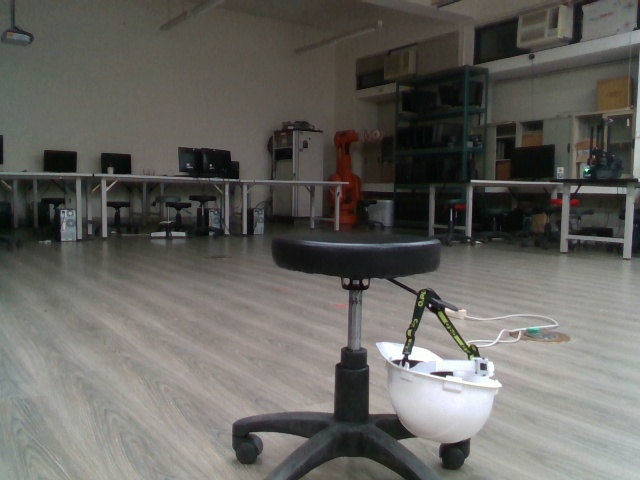helmet: (376, 285, 505, 446)
